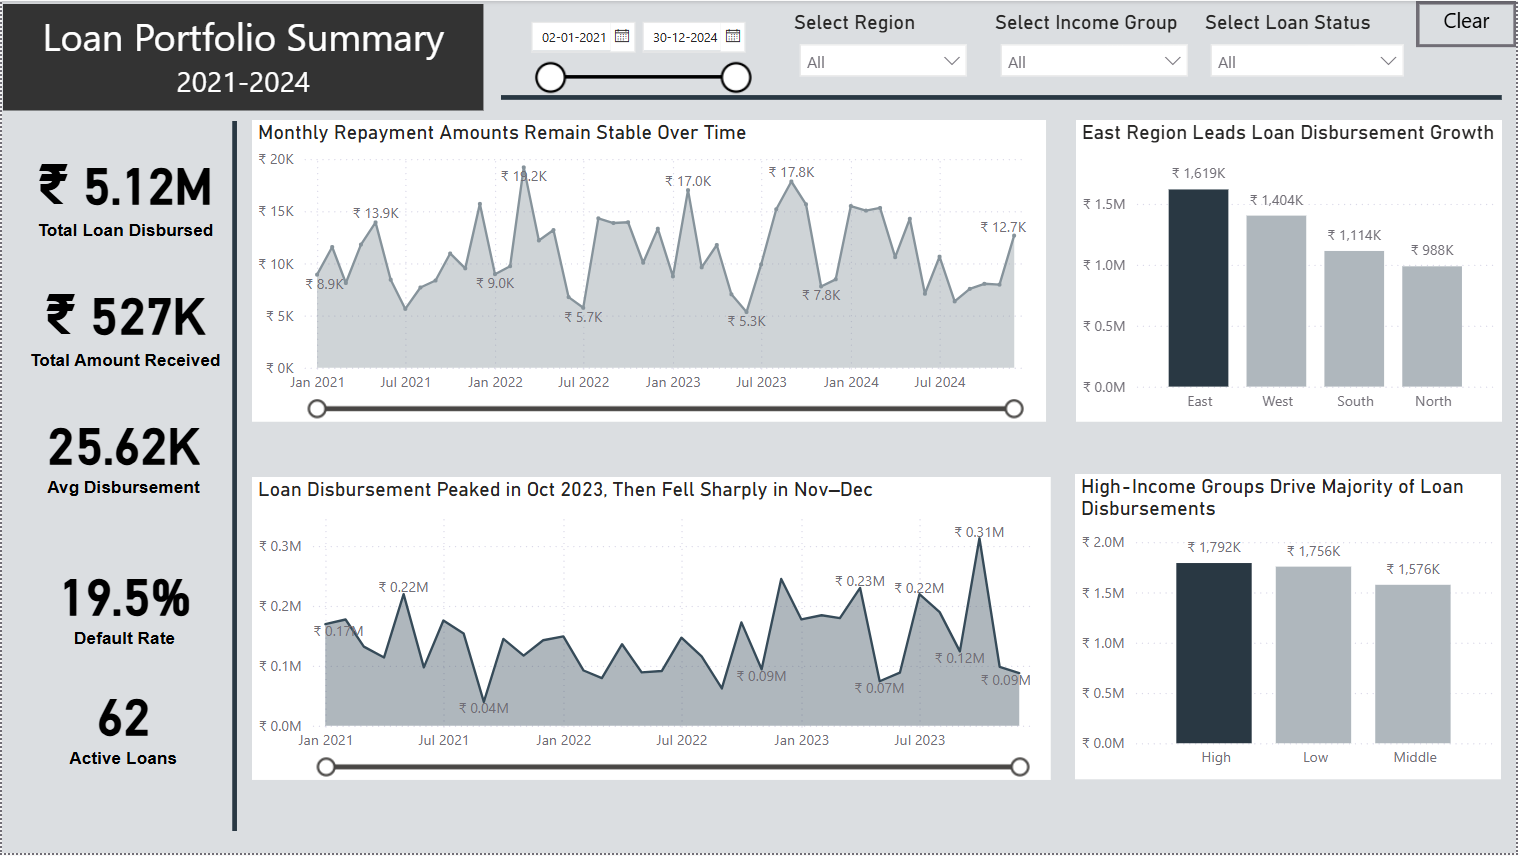

Layout of this report page (visuals, bound fields, positions):
{"tool":"powerbi","page":{"name":"\t Loan Portfolio Summary","canvas":[1280,720],"ordinal":0},"visuals":[{"type":"slicer","fields":{"Values":["Payments.Date"]},"box":[434.2,7.9,206.3,79.6],"z":0},{"type":"textbox","box":[0.9,2.6,406.3,89.7],"z":1000},{"type":"slicer","title":"Select Region","fields":{"Values":["Customers.Region"]},"box":[664.1,7.9,161.1,79.6],"z":2000},{"type":"cardVisual","fields":{"Data":["M_Table.Default Rate (%)"]},"box":[18.6,462.9,170,92.9],"z":3000},{"type":"slicer","title":"Select Income Group","fields":{"Values":["Customers.Income_Group"]},"box":[834,7.9,177.8,79.6],"z":4000},{"type":"cardVisual","fields":{"Data":["M_Table.Total Loan Disbursed"]},"box":[11.4,110,185.7,118.6],"z":5000},{"type":"lineChart","title":"Monthly Repayment Amounts Remain Stable Over Time","fields":{"Category":["Payments.Date.Variation.Date Hierarchy.Year","Payments.Date.Variation.Date Hierarchy.Month"],"Y":["M_Table.Monthly Repayment Trend"]},"box":[211.3,100.9,671.1,255.3],"z":6000},{"type":"cardVisual","fields":{"Data":["M_Table.Total Paid Amount"]},"box":[1.4,228.6,205.7,91.4],"z":7000},{"type":"columnChart","title":"East Region Leads Loan Disbursement Growth","fields":{"Category":["Customers.Region"],"Y":["M_Table.Loan Disbursed Over Time"]},"box":[907.4,100.9,359.7,255.3],"z":8000},{"type":"columnChart","title":"High-Income Groups Drive Majority of Loan Disbursements","fields":{"Category":["Customers.Income_Group"],"Y":["M_Table.Loan Disbursed Over Time"]},"box":[907.1,399.6,359.6,257.5],"z":9000},{"type":"lineChart","title":"Loan Disbursement Peaked in Oct 2023, Then Fell Sharply in Nov–Dec","fields":{"Y":["M_Table.Loan Disbursed Over Time"],"Category":["DateTable.Date.Variation.Date Hierarchy.Year","DateTable.Date.Variation.Date Hierarchy.Quarter","DateTable.Date.Variation.Date Hierarchy.Month","DateTable.Date.Variation.Date Hierarchy.Day"]},"box":[211.3,401.9,675.4,256.2],"z":10000},{"type":"slicer","title":"Select Loan Status","fields":{"Values":["Loans.Status"]},"box":[1011.8,7.9,182.7,79.6],"z":11000},{"type":"cardVisual","fields":{"Data":["M_Table.Active Loans"]},"box":[17.1,564.3,171.4,92.9],"z":12000},{"type":"cardVisual","fields":{"Data":["M_Table.Avg Disbursment"]},"box":[10,335.7,185.7,92.9],"z":13000},{"type":"actionButton","box":[1195.3,0,85.3,39.5],"z":14000},{"type":"shape","box":[190,101.4,12.9,600],"z":15000},{"type":"shape","box":[421.4,74.3,845.7,14.3],"z":16000}]}

Visuals, with their boxes in screenshot pixels (x1, y1, x2, y2), scaled from the page's 1280x720 canvas onto the 1518x856 screenshot:
slicer - Payments.Date: pyautogui.locateOnScreen(515, 9, 760, 104)
textbox: pyautogui.locateOnScreen(1, 3, 483, 110)
"Select Region" slicer: pyautogui.locateOnScreen(788, 9, 979, 104)
cardVisual - M_Table.Default Rate (%): pyautogui.locateOnScreen(22, 550, 224, 661)
"Select Income Group" slicer: pyautogui.locateOnScreen(989, 9, 1200, 104)
cardVisual - M_Table.Total Loan Disbursed: pyautogui.locateOnScreen(14, 131, 234, 272)
"Monthly Repayment Amounts Remain Stable Over Time" lineChart: pyautogui.locateOnScreen(251, 120, 1046, 423)
cardVisual - M_Table.Total Paid Amount: pyautogui.locateOnScreen(2, 272, 246, 380)
"East Region Leads Loan Disbursement Growth" columnChart: pyautogui.locateOnScreen(1076, 120, 1503, 423)
"High-Income Groups Drive Majority of Loan Disbursements" columnChart: pyautogui.locateOnScreen(1076, 475, 1502, 781)
"Loan Disbursement Peaked in Oct 2023, Then Fell Sharply in Nov–Dec" lineChart: pyautogui.locateOnScreen(251, 478, 1052, 782)
"Select Loan Status" slicer: pyautogui.locateOnScreen(1200, 9, 1417, 104)
cardVisual - M_Table.Active Loans: pyautogui.locateOnScreen(20, 671, 224, 781)
cardVisual - M_Table.Avg Disbursment: pyautogui.locateOnScreen(12, 399, 232, 510)
actionButton: pyautogui.locateOnScreen(1418, 0, 1517, 47)
shape: pyautogui.locateOnScreen(225, 121, 241, 834)
shape: pyautogui.locateOnScreen(500, 88, 1503, 105)
